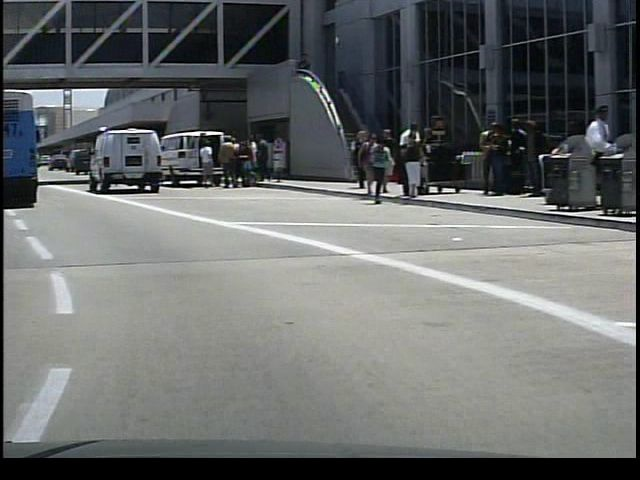person: (568, 101, 609, 213), (396, 122, 426, 199), (395, 131, 421, 201), (212, 137, 239, 191), (249, 132, 271, 183), (194, 136, 213, 191)
